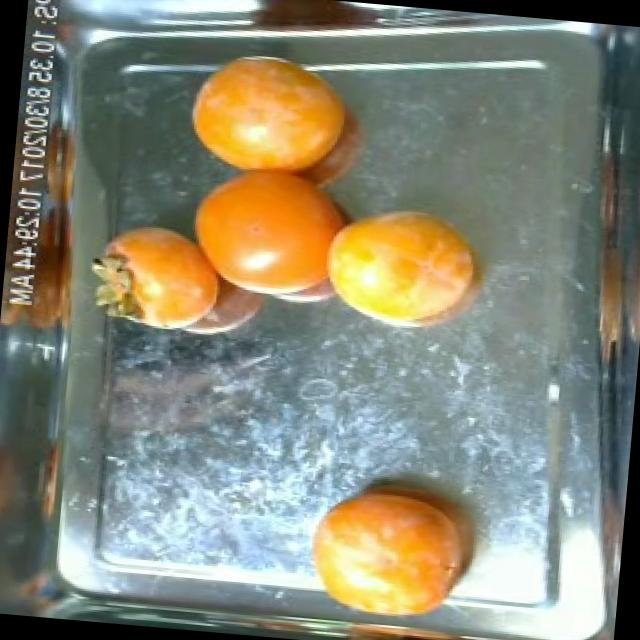Fruit: (290, 459, 506, 628), (168, 45, 382, 202), (302, 187, 504, 347), (76, 204, 245, 332)
